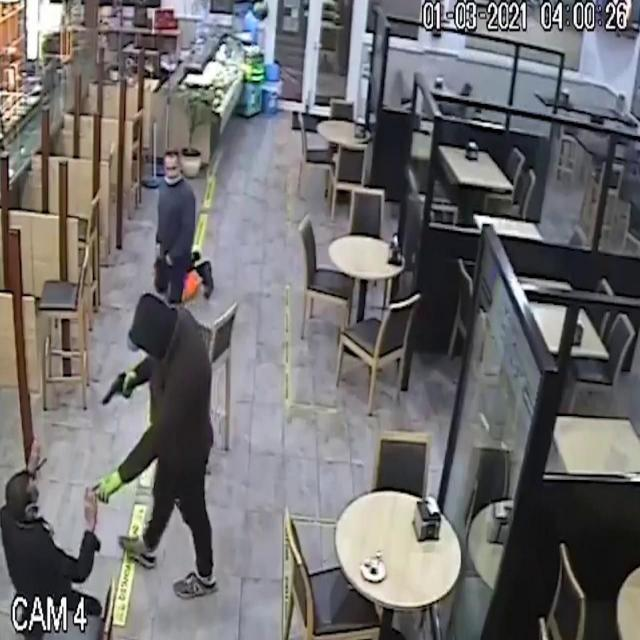weapon: (91, 362, 145, 422)
